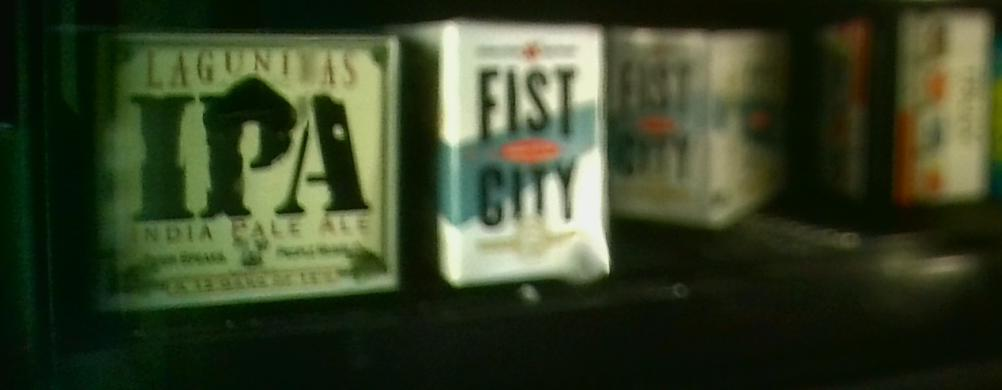bottle: (83, 28, 403, 294), (405, 23, 610, 275), (614, 29, 796, 222)
